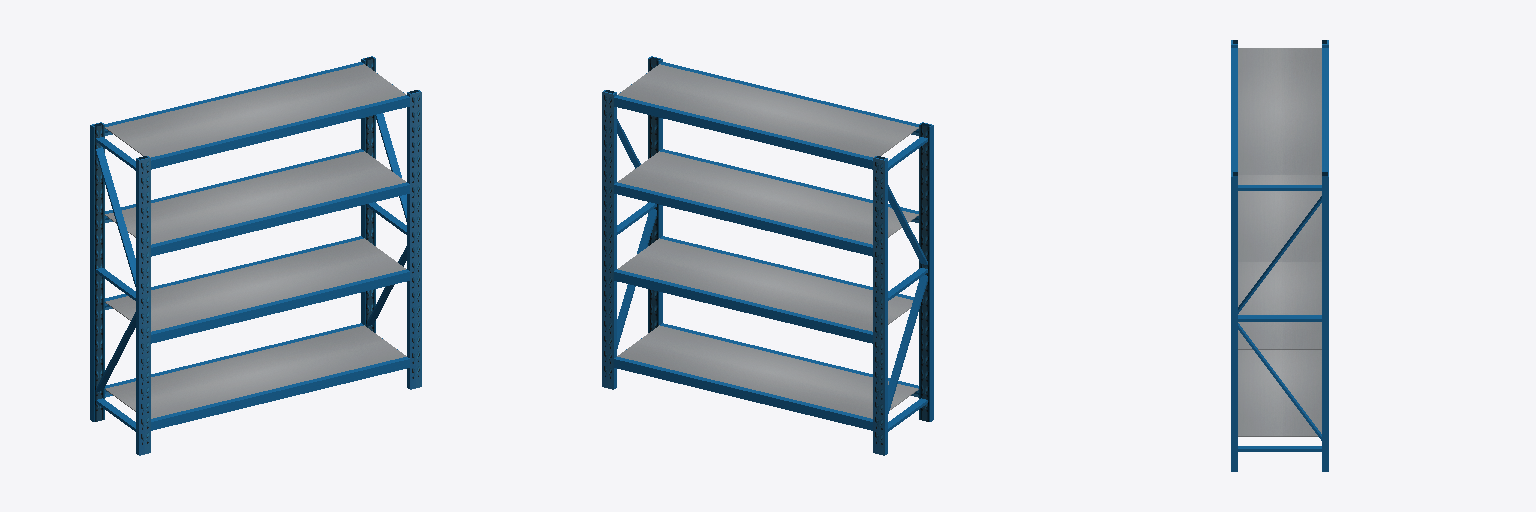
3 renders of one model, left to right at view 1: azimuth 30°, elevation 25°; view 2: azimuth 150°, elevation 25°; view 3: azimuth 270°, elevation 25°, orthographic.
Parts seen in each view (by area): view 1: Mesh1; view 2: Mesh1; view 3: Mesh1.
Boxes of the visible parts, x1=… form: Mesh1: x1=90, y1=56, x2=421, y2=455; Mesh1: x1=602, y1=56, x2=933, y2=455; Mesh1: x1=1231, y1=40, x2=1328, y2=471.
Bounding box in the file's own units: 2000 × 2000 × 600.
1 materials, 1 textured.